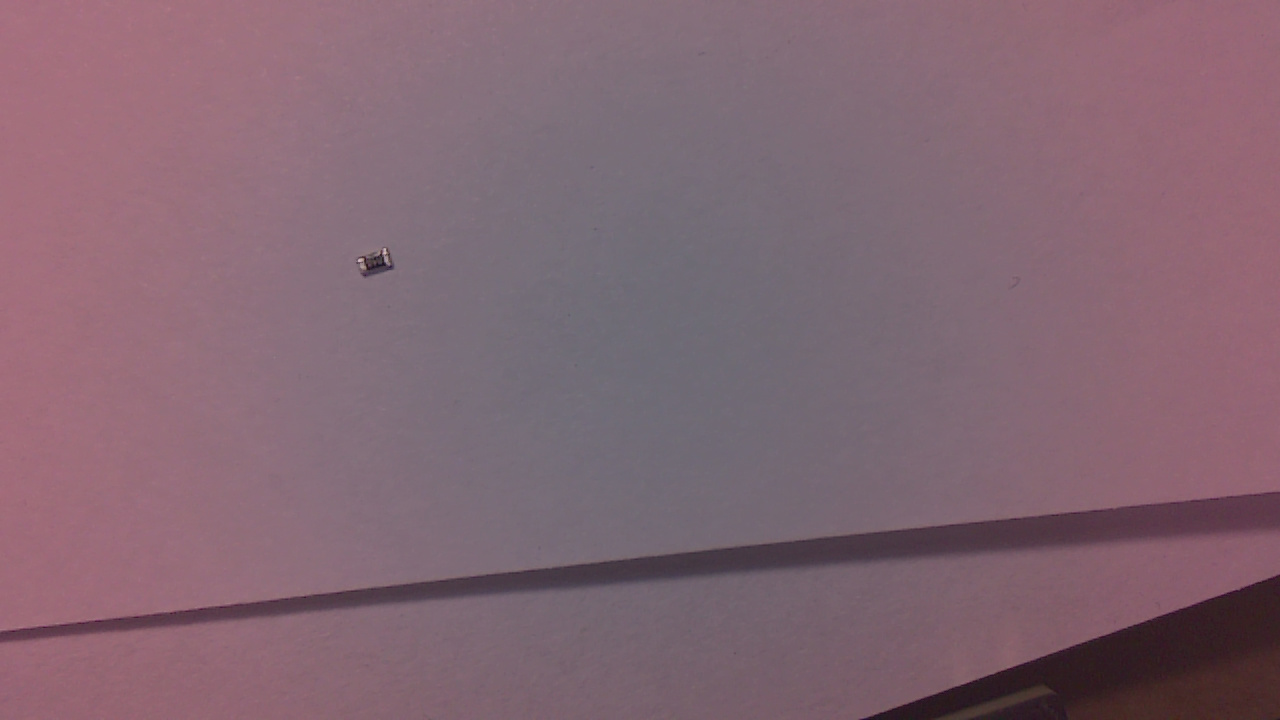Resistor: (361, 251, 399, 283)
